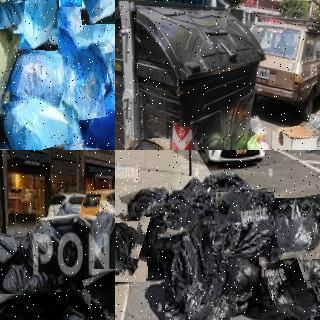Garbage: (161, 225, 233, 320), (132, 198, 201, 271), (1, 91, 82, 150), (214, 190, 277, 261), (256, 252, 320, 320), (1, 47, 72, 104), (257, 195, 320, 259), (64, 43, 110, 117), (216, 252, 269, 316), (76, 79, 115, 150), (0, 291, 93, 320), (57, 5, 115, 49), (115, 221, 147, 283), (19, 0, 58, 50), (120, 186, 171, 217), (87, 265, 115, 320), (0, 27, 17, 108), (304, 239, 320, 315), (0, 0, 26, 37), (81, 0, 115, 24), (102, 37, 115, 88)
